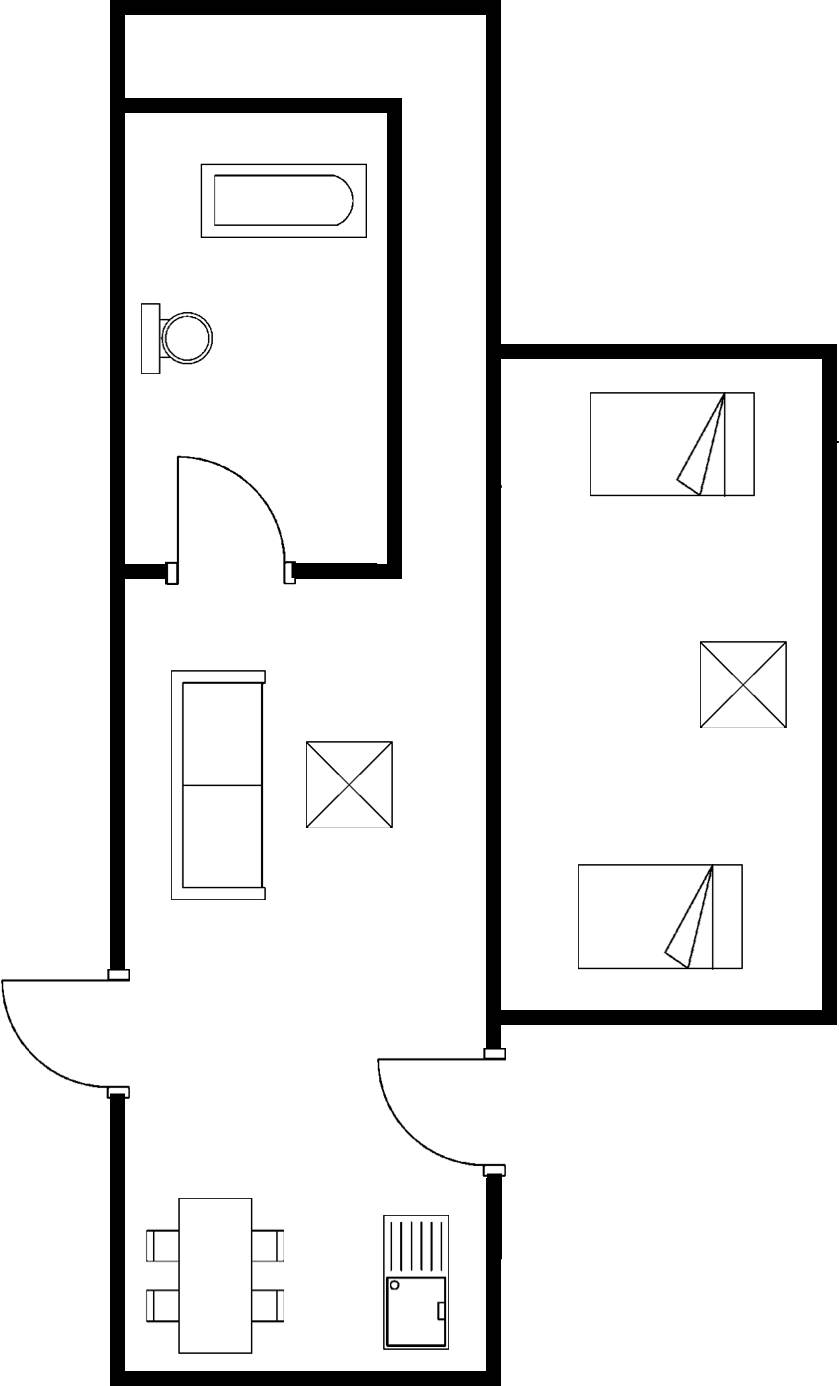bed: (584, 384, 763, 506), (572, 856, 749, 975)
coffee_table: (692, 631, 795, 737), (299, 733, 399, 836)
dining_table: (140, 1190, 294, 1360)
large_sink: (136, 296, 219, 381)
large_sofa: (161, 661, 273, 907)
sink: (373, 1207, 459, 1359)
tub: (191, 156, 376, 248)
